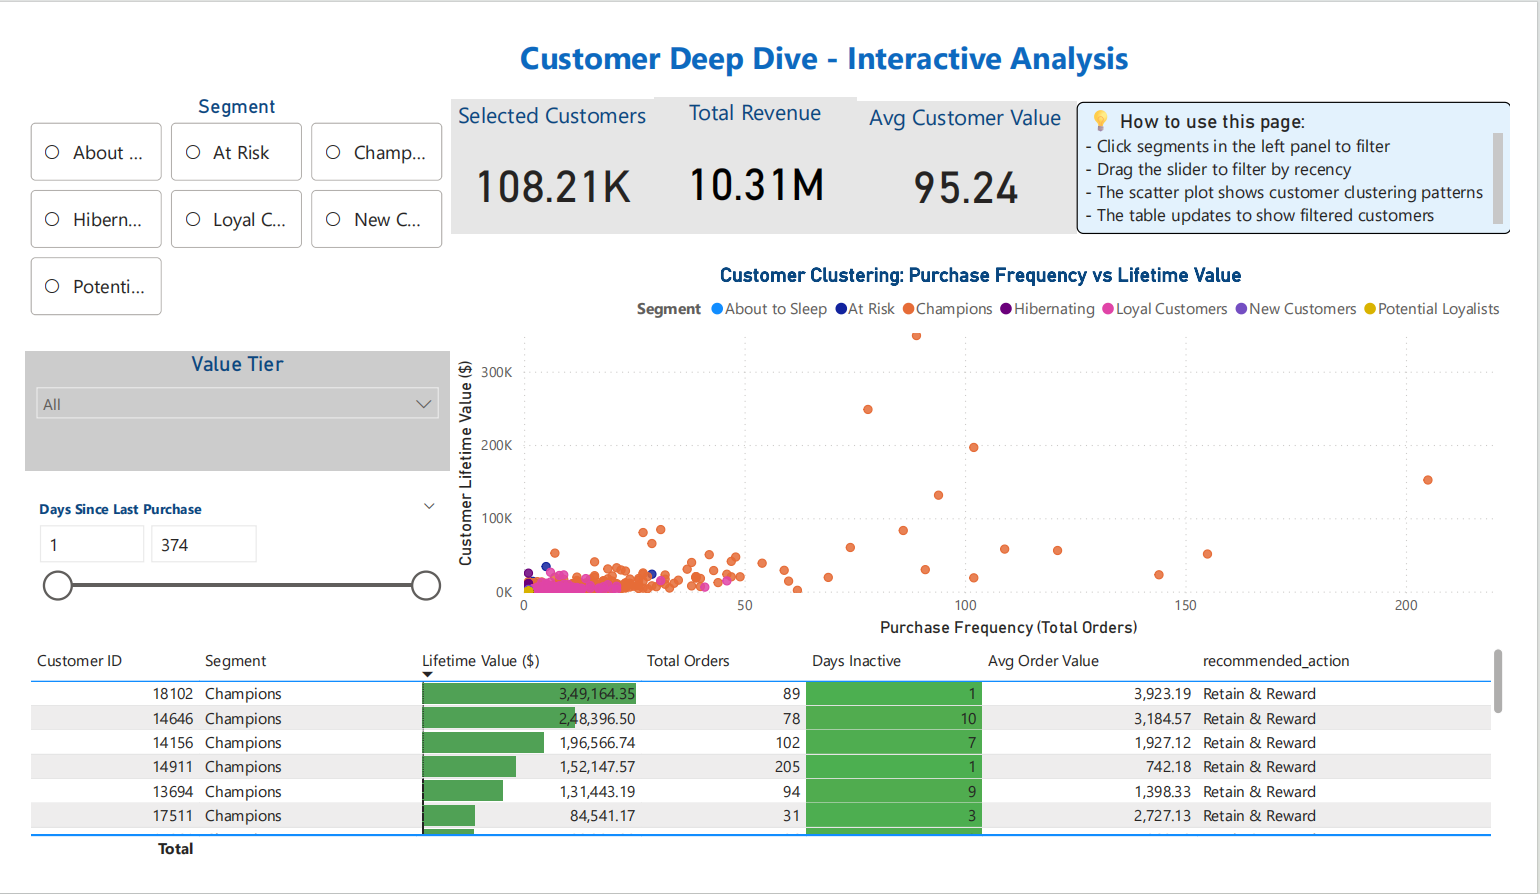

The dashboard page shown, as its layout file describes it:
{"tool":"powerbi","page":{"name":"Customer Deep Dive ","canvas":[1280,720],"ordinal":1},"visuals":[{"type":"textbox","box":[408.3,0,563.3,113.3],"z":0},{"type":"slicer","title":"Value Tier","fields":{"Values":["ecommerce_analytics vw_customer_details.value_tier"]},"box":[0,277.4,367.3,103.1],"z":1000},{"type":"slicer","title":"Days Since Last Purchase","fields":{"Values":["ecommerce_analytics vw_customer_details.Recency"]},"box":[0,399.2,367.3,112.4],"z":2000},{"type":"card","title":"Selected Customers","fields":{"Values":["CountNonNull(ecommerce_analytics vw_customer_details.CustomerID)"]},"box":[376.2,56.2,176.2,121.2],"z":3000},{"type":"card","title":"Total Revenue","fields":{"Values":["Sum(ecommerce_analytics vw_customer_details.Monetary)"]},"box":[552.5,56.2,146.2,121.2],"z":4000},{"type":"scatterChart","title":"Customer Clustering: Purchase Frequency vs Lifetime Value","fields":{"X":["ecommerce_analytics vw_customer_details.Frequency"],"Y":["ecommerce_analytics vw_customer_details.Monetary"],"Series":["ecommerce_analytics vw_customer_details.Segment"]},"box":[375.7,190,892.9,321.4],"z":5000},{"type":"tableEx","title":"Top 50 Customers (Spending wise)","fields":{"Values":["ecommerce_analytics vw_customer_details.CustomerID","ecommerce_analytics vw_customer_details.Segment","ecommerce_analytics vw_customer_details.Monetary","ecommerce_analytics vw_customer_details.Frequency","ecommerce_analytics vw_customer_details.Recency","ecommerce_analytics vw_customer_details.avg_order_value","ecommerce_analytics vw_customer_details.recommended_action"]},"box":[0,527.1,1268.6,195.7],"z":6000},{"type":"card","title":"Avg Customer Value","fields":{"Values":["Avg(ecommerce_analytics vw_customer_details.Monetary)"]},"box":[698.8,56.2,178.8,121.2],"z":7000},{"type":"textbox","title":"💡 How to use this page:","box":[885.7,57.1,382.9,120],"z":8000},{"type":"advancedSlicerVisual","fields":{"Values":["ecommerce_analytics vw_customer_details.Segment"]},"box":[0,56.2,367.5,192.5],"z":9000}]}

Visuals, with their boxes on the page's 1280x720 design canvas (x1, y1, x2, y2). These are canvas units, not pixel positions in the 1540x894 screenshot, which may show the page scaled, cropped or inside an application window:
textbox: 408, 0, 972, 113
"Value Tier" slicer: 0, 277, 367, 380
"Days Since Last Purchase" slicer: 0, 399, 367, 512
"Selected Customers" card: 376, 56, 552, 177
"Total Revenue" card: 552, 56, 699, 177
"Customer Clustering: Purchase Frequency vs Lifetime Value" scatterChart: 376, 190, 1269, 511
"Top 50 Customers (Spending wise)" tableEx: 0, 527, 1269, 723
"Avg Customer Value" card: 699, 56, 878, 177
"💡 How to use this page:" textbox: 886, 57, 1269, 177
advancedSlicerVisual - ecommerce_analytics vw_customer_details.Segment: 0, 56, 368, 249
